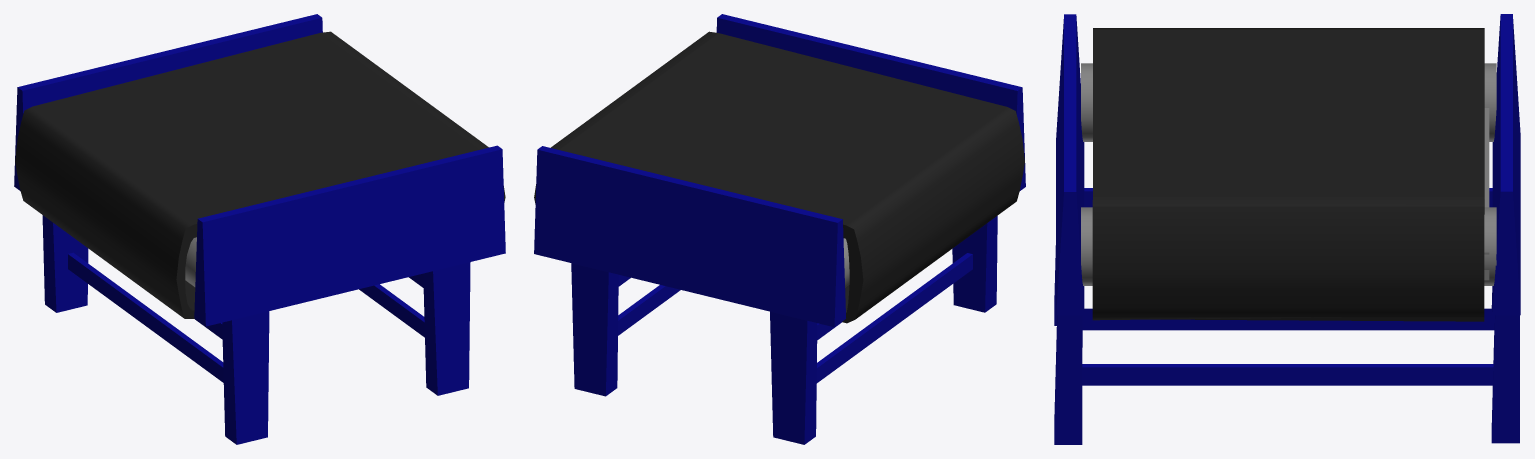
Rendered from Conveyor_Shorter legs.fbx.
3 views of the same model, side by side, from view 1: azimuth 30°, elevation 25°; view 2: azimuth 150°, elevation 25°; view 3: azimuth 270°, elevation 25° (orthographic). The views are drawn at different scales.
Parts seen in each view (by area): view 1: polySurface38, polySurface41, polySurface42, polySurface43, polySurface31, polySurface37, polySurface29, polySurface33; view 2: polySurface38, polySurface42, polySurface41, polySurface27, polySurface29, polySurface37, polySurface31, polySurface33; view 3: polySurface38, polySurface33, polySurface42, polySurface41, polySurface30, polySurface43, polySurface27, polySurface35, polySurface28, polySurface36.
Part boxes in pixels (x1,y1,x2,y2): polySurface38: (15,31,505,318); polySurface41: (194,145,505,326); polySurface42: (14,14,322,190); polySurface43: (423,262,470,395); polySurface31: (222,311,269,444); polySurface37: (68,252,223,382); polySurface29: (42,215,88,312); polySurface33: (359,284,424,337); polySurface38: (534,31,1024,323); polySurface42: (534,146,845,327); polySurface41: (716,14,1025,190); polySurface27: (571,263,618,396); polySurface29: (770,311,817,444); polySurface37: (816,253,972,383); polySurface31: (952,216,997,312); polySurface33: (618,285,680,335); polySurface38: (1092,28,1484,321); polySurface33: (1082,364,1493,385); polySurface42: (1492,14,1520,315); polySurface41: (1056,14,1084,315); polySurface30: (1082,308,1494,330); polySurface43: (1054,315,1082,444); polySurface27: (1491,315,1519,443); polySurface35: (1081,207,1496,285); polySurface28: (1081,63,1496,141); polySurface36: (1484,108,1489,280).
Bounding box in the file's own units: 0.8473 × 0.5585 × 0.8577.
